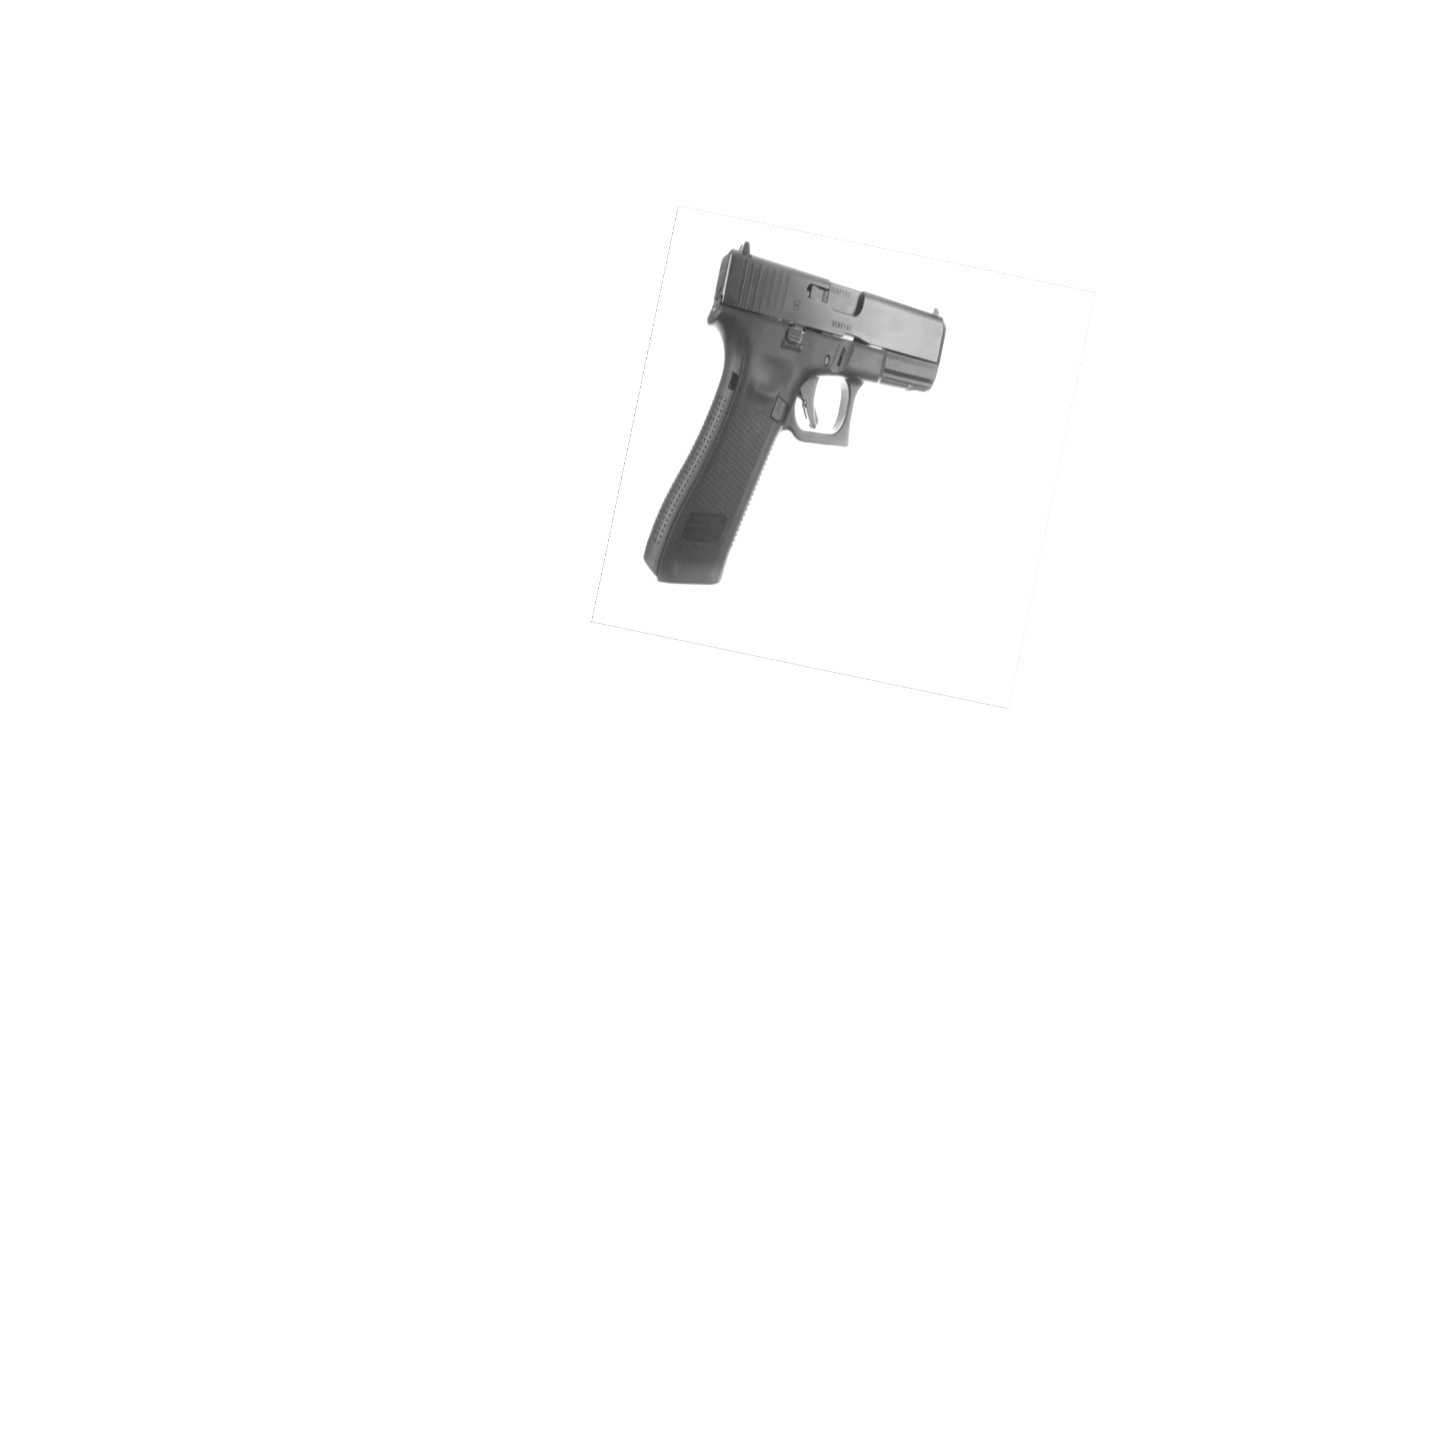gun: (643, 240, 951, 593)
